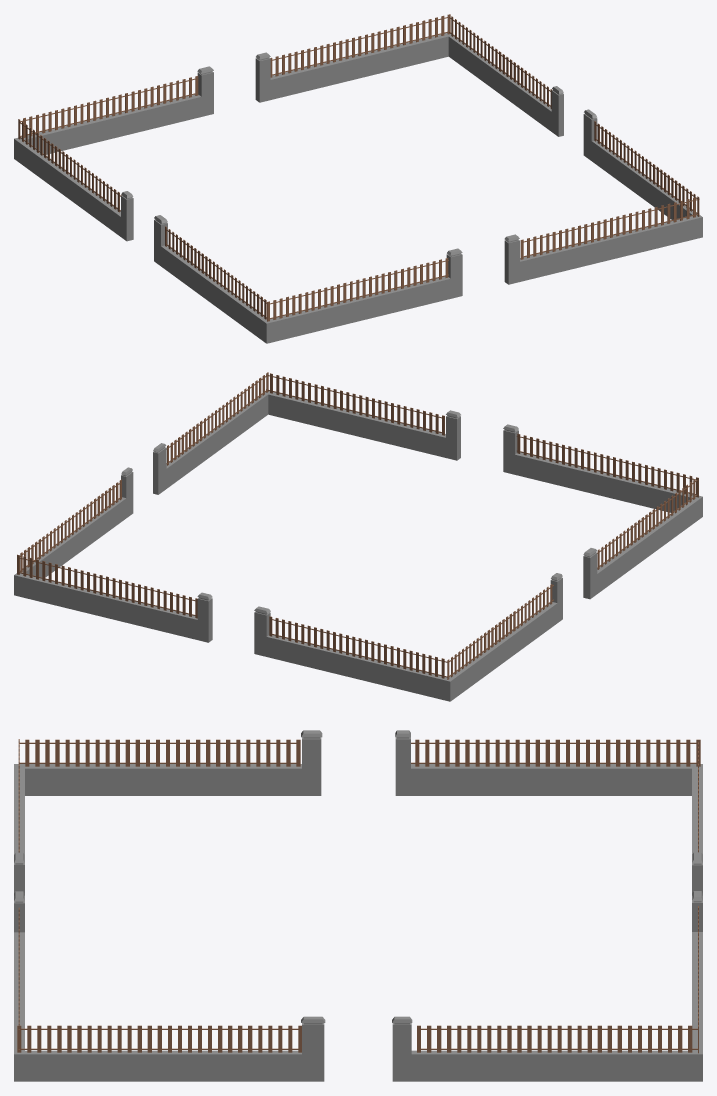
Rendered from wall.glb.
The picture shows the model from 3 angles, top to bottom: view 1: azimuth 30°, elevation 25°; view 2: azimuth 150°, elevation 25°; view 3: azimuth 270°, elevation 25°; orthographic projection. The views are drawn at different scales.
Visible parts, largest first — view 1: wall; view 2: wall; view 3: wall.
Boxes of the visible parts, bbox=[...] form: wall: bbox=[14, 14, 702, 343]; wall: bbox=[14, 372, 702, 701]; wall: bbox=[14, 730, 702, 1081].
Size of the model in its own units: 6.33 by 0.6296 by 6.35.
